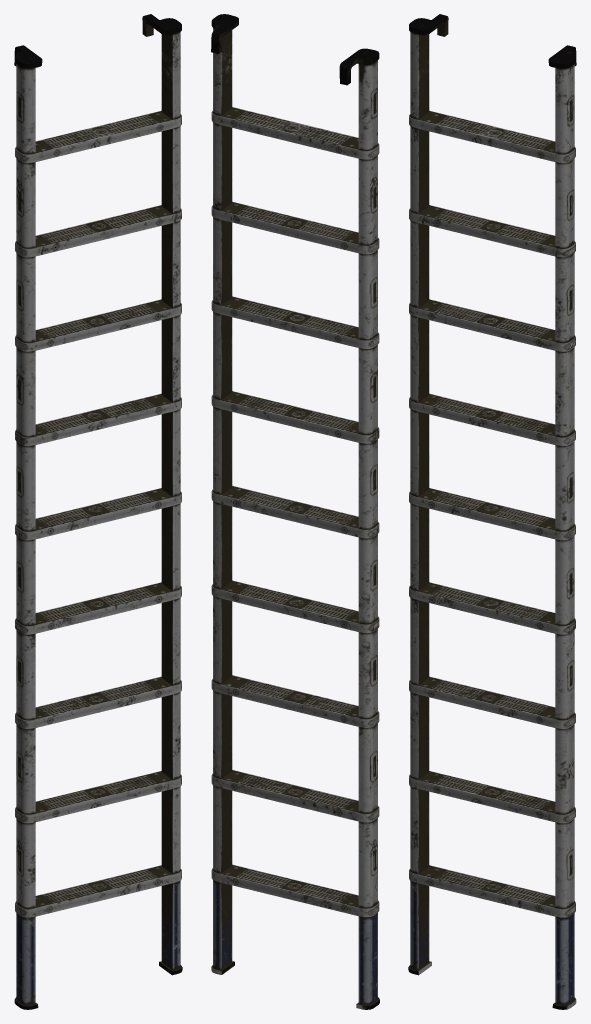
Rendered from ladder.glb.
3 renders of one model, left to right at view 1: azimuth 30°, elevation 25°; view 2: azimuth 150°, elevation 25°; view 3: azimuth 330°, elevation 25°, orthographic.
Visible parts, largest first — view 1: Object_3; view 2: Object_3; view 3: Object_3.
Boxes of the visible parts, x1,y1,x2,y2 form: Object_3: [14, 14, 182, 1009]; Object_3: [211, 14, 379, 1009]; Object_3: [408, 14, 576, 1009].
Bounding box in the file's own units: 57.16 × 321 × 14.1.
Materials: 1 (1 with a texture image).
